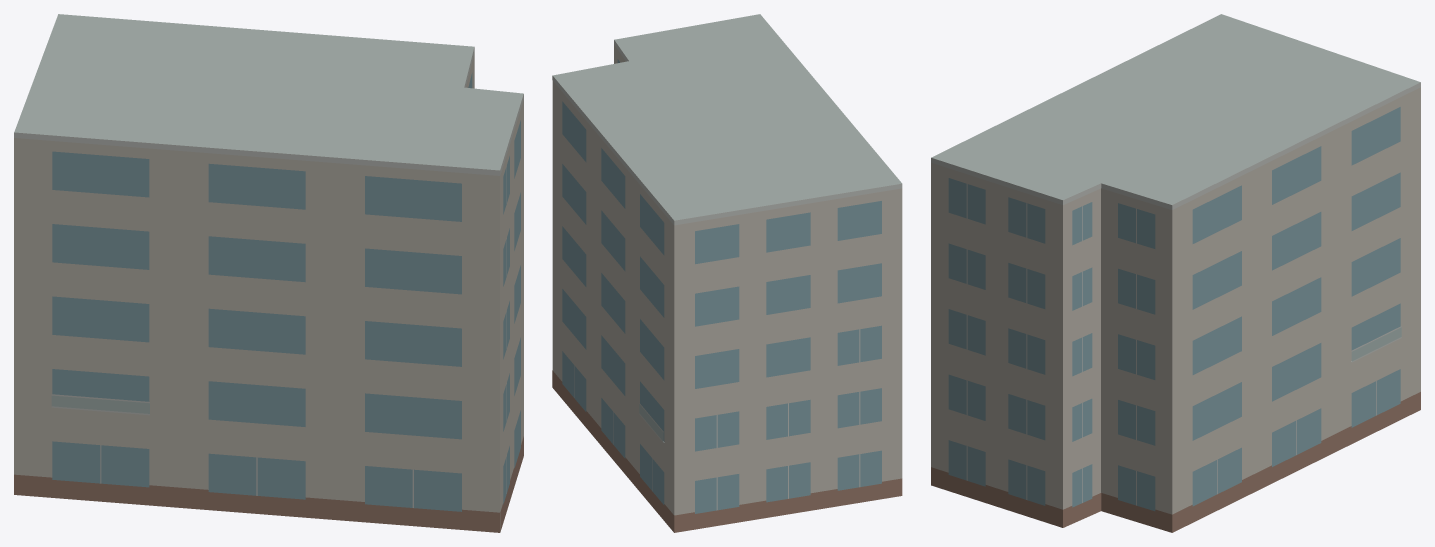
The model's file is survey-upis-33017164.glb.
3 views of the same model, side by side, from view 1: azimuth 30°, elevation 25°; view 2: azimuth 150°, elevation 25°; view 3: azimuth 270°, elevation 25° (orthographic). The views are drawn at different scales.
Parts seen in each view (by area): view 1: survey-upis-33017164.tmp; view 2: survey-upis-33017164.tmp; view 3: survey-upis-33017164.tmp.
Part boxes in pixels (x1=…): survey-upis-33017164.tmp: x1=14, y1=14, x2=523, y2=532; survey-upis-33017164.tmp: x1=552, y1=14, x2=902, y2=532; survey-upis-33017164.tmp: x1=931, y1=14, x2=1420, y2=532.
Size of the model in its own units: 20.09 by 16.05 by 21.75.
